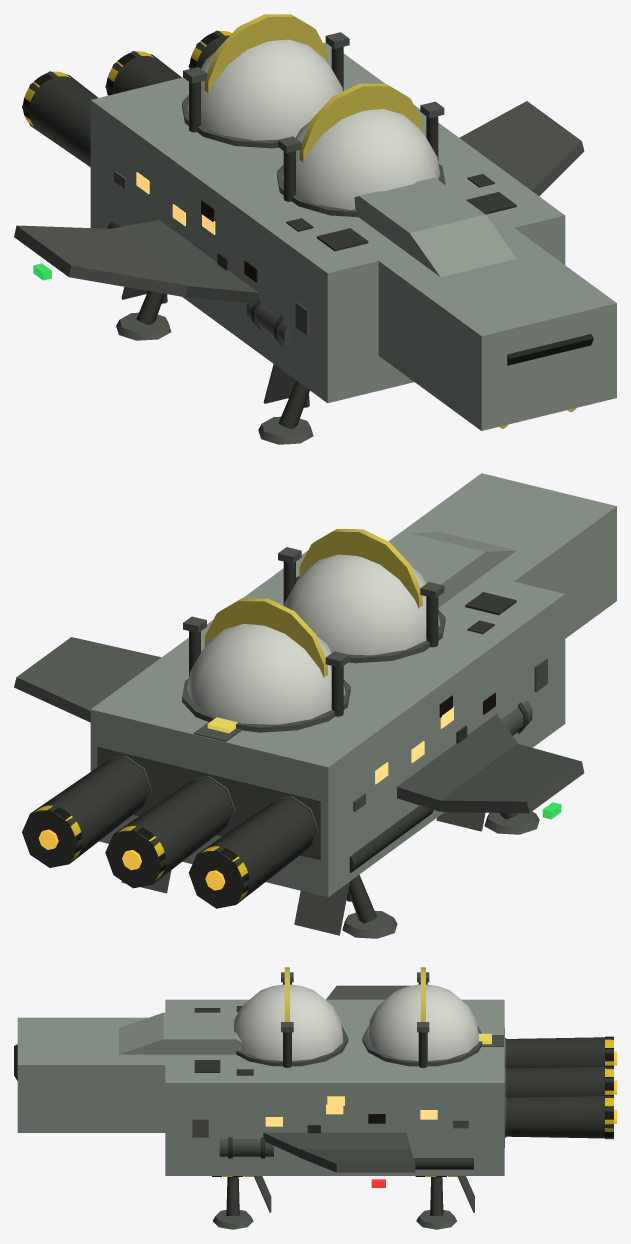
Rendered from h2_freighter-s.glb.
3 views of the same model, one above another, from view 1: azimuth 30°, elevation 25°; view 2: azimuth 150°, elevation 25°; view 3: azimuth 270°, elevation 25° (orthographic). The views are drawn at different scales.
Parts seen in each view (by area): view 1: hullMain, hullNose, pressureTank1, pressureTank0, canopyFairing, wingOuterLeft, wingOuterRight, engineHousing (×2), wingInnerLeft, tankBand0, tankBand1, gearFoot (×2) (+10 smaller); view 2: hullMain, engineHousing (×3), hullNose, pressureTank1, pressureTank0, wingOuterRight, wingOuterLeft, wingInnerLeft, canopyFairing, engineBayExtension, tankBand1, tankBand0 (+9 smaller); view 3: hullMain, hullNose, engineHousing (×3), pressureTank1, pressureTank0, canopyFairing, wingOuterRight, wingInnerRight, gearFoot (×2), gearStrut (×2), wingOuterLeft, tankCradle1 (+3 smaller).
Boxes of the visible parts, bbox=[...] form: hullMain: bbox=[90, 42, 565, 403]; hullNose: bbox=[369, 227, 616, 430]; pressureTank1: bbox=[187, 39, 342, 140]; pressureTank0: bbox=[282, 109, 440, 209]; canopyFairing: bbox=[354, 177, 516, 277]; wingOuterLeft: bbox=[14, 225, 186, 297]; wingOuterRight: bbox=[459, 101, 584, 196]; engineHousing (×2): bbox=[22, 51, 181, 166]; wingInnerLeft: bbox=[110, 220, 258, 303]; tankBand0: bbox=[299, 83, 422, 162]; tankBand1: bbox=[204, 14, 327, 93]; gearFoot (×2): bbox=[116, 312, 313, 444]; hullMain: bbox=[90, 550, 565, 897]; engineHousing (×3): bbox=[22, 757, 316, 908]; hullNose: bbox=[388, 473, 616, 638]; pressureTank1: bbox=[187, 624, 345, 724]; pressureTank0: bbox=[284, 554, 440, 655]; wingOuterRight: bbox=[14, 637, 161, 722]; wingOuterLeft: bbox=[439, 743, 584, 813]; wingInnerLeft: bbox=[397, 714, 518, 811]; canopyFairing: bbox=[393, 532, 516, 607]; engineBayExtension: bbox=[97, 746, 320, 860]; tankBand1: bbox=[204, 598, 327, 677]; tankBand0: bbox=[299, 529, 422, 608]; hullMain: bbox=[165, 999, 504, 1175]; hullNose: bbox=[17, 1017, 178, 1132]; engineHousing (×3): bbox=[506, 1037, 613, 1138]; pressureTank1: bbox=[367, 984, 478, 1061]; pressureTank0: bbox=[234, 984, 342, 1061]; canopyFairing: bbox=[119, 1012, 242, 1054]; wingOuterRight: bbox=[299, 1149, 415, 1172]; wingInnerRight: bbox=[263, 1132, 410, 1156]; gearFoot (×2): bbox=[213, 1210, 456, 1229]; gearStrut (×2): bbox=[226, 1177, 443, 1215]; wingOuterLeft: bbox=[326, 985, 410, 999]; tankCradle1: bbox=[362, 1026, 482, 1066].
Bounding box in the file's own units: 4.8 × 2.59 × 6.75.
